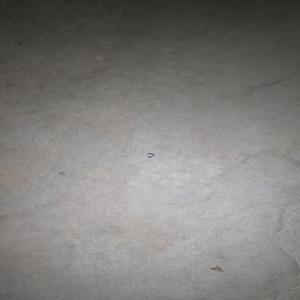Nut: (144, 152, 154, 158)
